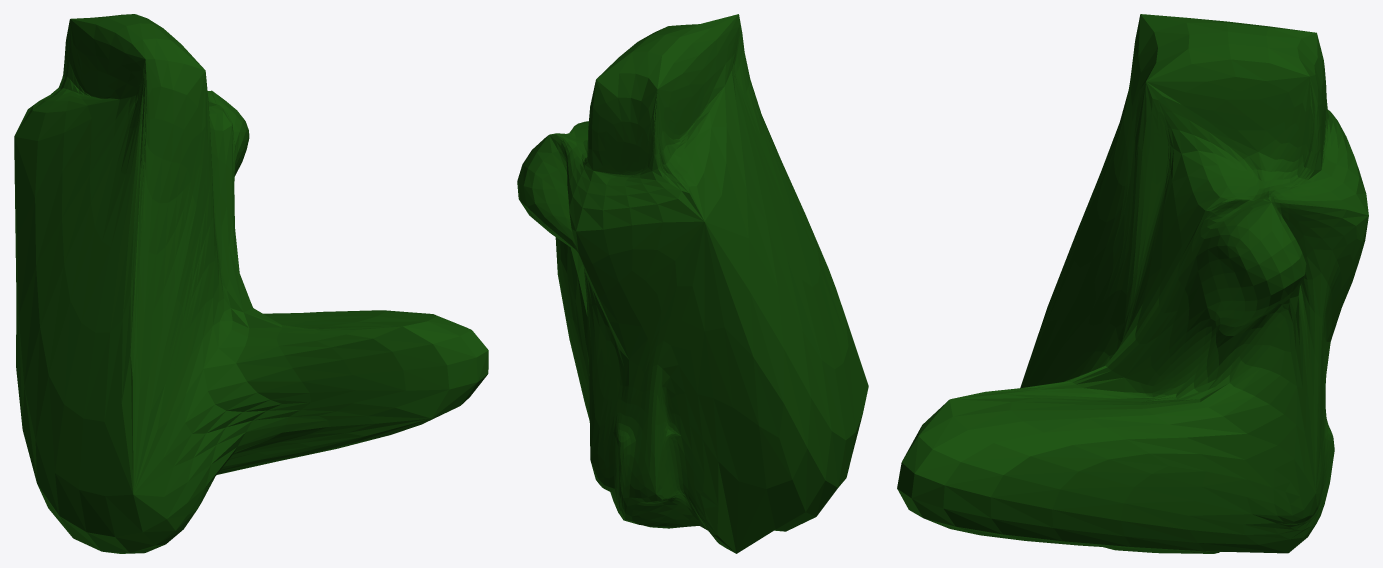
3 views of the same model, side by side, from view 1: azimuth 30°, elevation 25°; view 2: azimuth 150°, elevation 25°; view 3: azimuth 270°, elevation 25° (orthographic). The views are drawn at different scales.
Visible parts, largest first — view 1: 234_Cube.964; view 2: 234_Cube.964; view 3: 234_Cube.964.
Boxes of the visible parts, x1,y1,x2,y2 form: 234_Cube.964: (14,14,488,553); 234_Cube.964: (517,14,868,553); 234_Cube.964: (897,14,1368,553).
Bounding box in the file's own units: 10.35 × 13.7 × 10.5.
